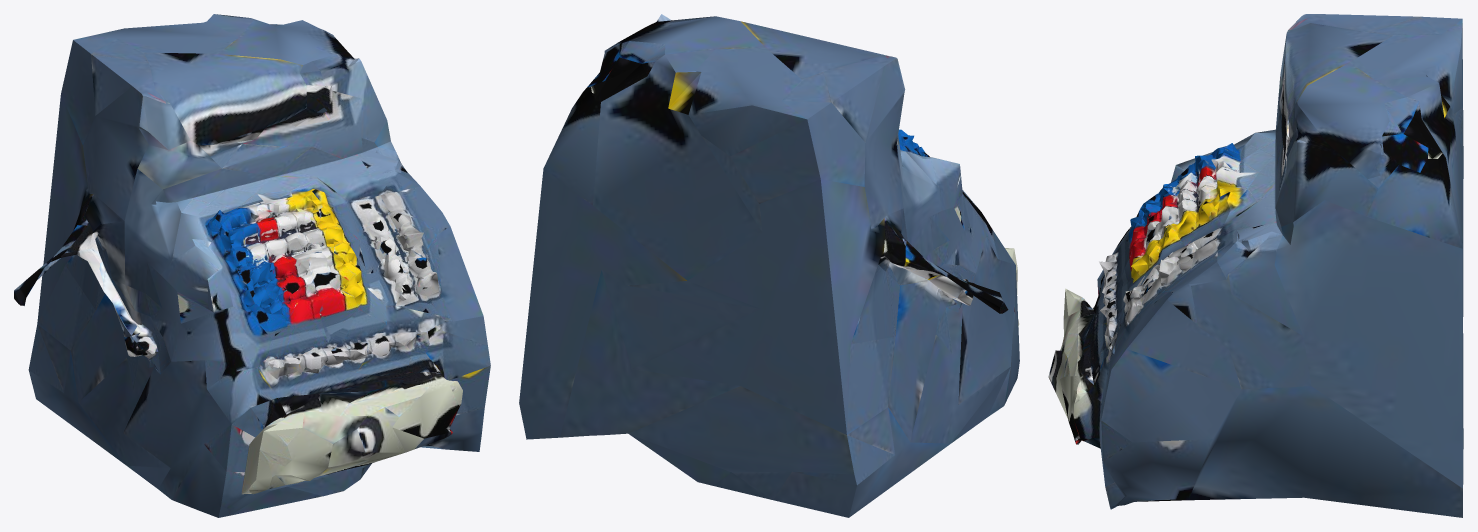
Rendered from shop-register.glb.
The picture shows the model from 3 angles, left to right: view 1: azimuth 30°, elevation 25°; view 2: azimuth 150°, elevation 25°; view 3: azimuth 270°, elevation 25°; orthographic projection. The views are drawn at different scales.
Visible parts, largest first — view 1: output_unwrapped; view 2: output_unwrapped; view 3: output_unwrapped.
Boxes of the visible parts, box(x1,y1,x2,y2) form: output_unwrapped: box(14, 14, 490, 517); output_unwrapped: box(519, 14, 1019, 517); output_unwrapped: box(1048, 14, 1463, 517).
Size of the model in its own units: 1.86 by 1.66 by 1.68.
1 material, 1 textured.
